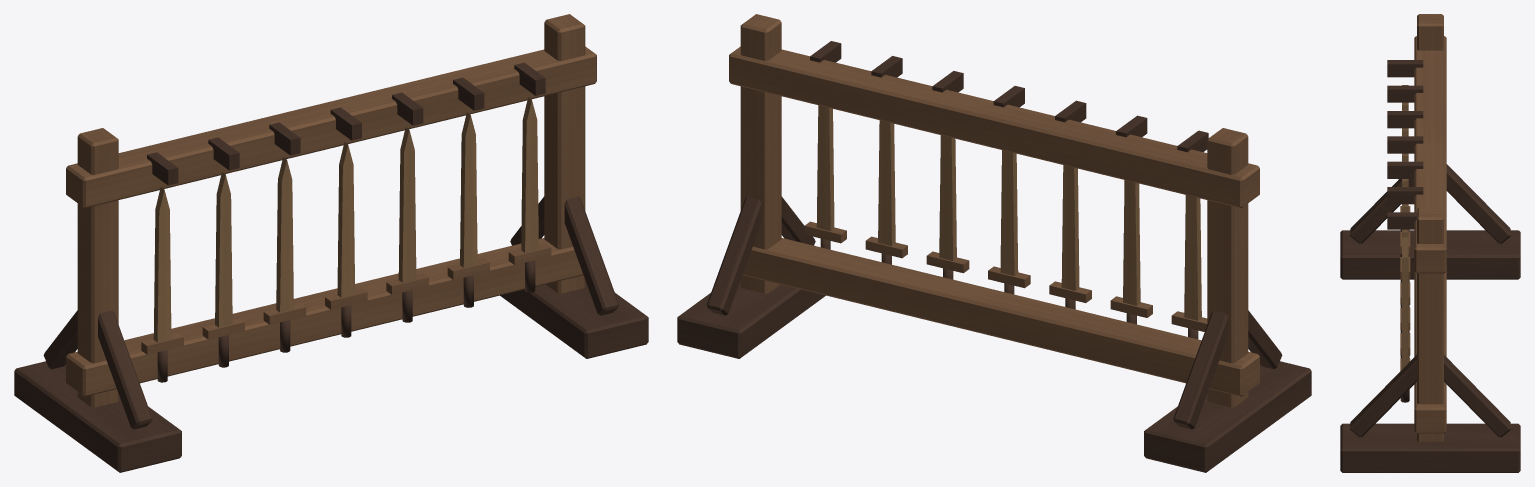
File: sword_rack.glb
3 views of the same model, side by side, from view 1: azimuth 30°, elevation 25°; view 2: azimuth 150°, elevation 25°; view 3: azimuth 270°, elevation 25° (orthographic). The views are drawn at different scales.
Visible parts, largest first — view 1: Training_CarvedWood, Training_Timber, Training_PracticeWood; view 2: Training_CarvedWood, Training_Timber, Training_PracticeWood; view 3: Training_Timber, Training_CarvedWood, Training_PracticeWood.
Boxes of the visible parts, x1,y1,x2,y2 form: Training_CarvedWood: (66, 14, 596, 407); Training_Timber: (14, 62, 648, 472); Training_PracticeWood: (153, 97, 538, 342); Training_CarvedWood: (729, 14, 1259, 407); Training_Timber: (677, 41, 1311, 472); Training_PracticeWood: (816, 105, 1201, 320); Training_Timber: (1340, 60, 1520, 472); Training_CarvedWood: (1400, 14, 1446, 441); Training_PracticeWood: (1402, 85, 1408, 368).
Size of the model in its own units: 2.89 by 1.52 by 1.
Materials: 3 (3 with a texture image).
